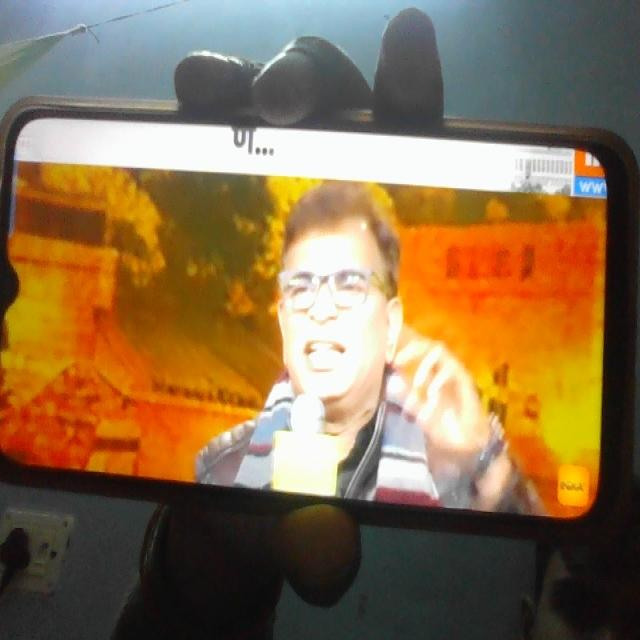fake: (262, 169, 407, 443)
